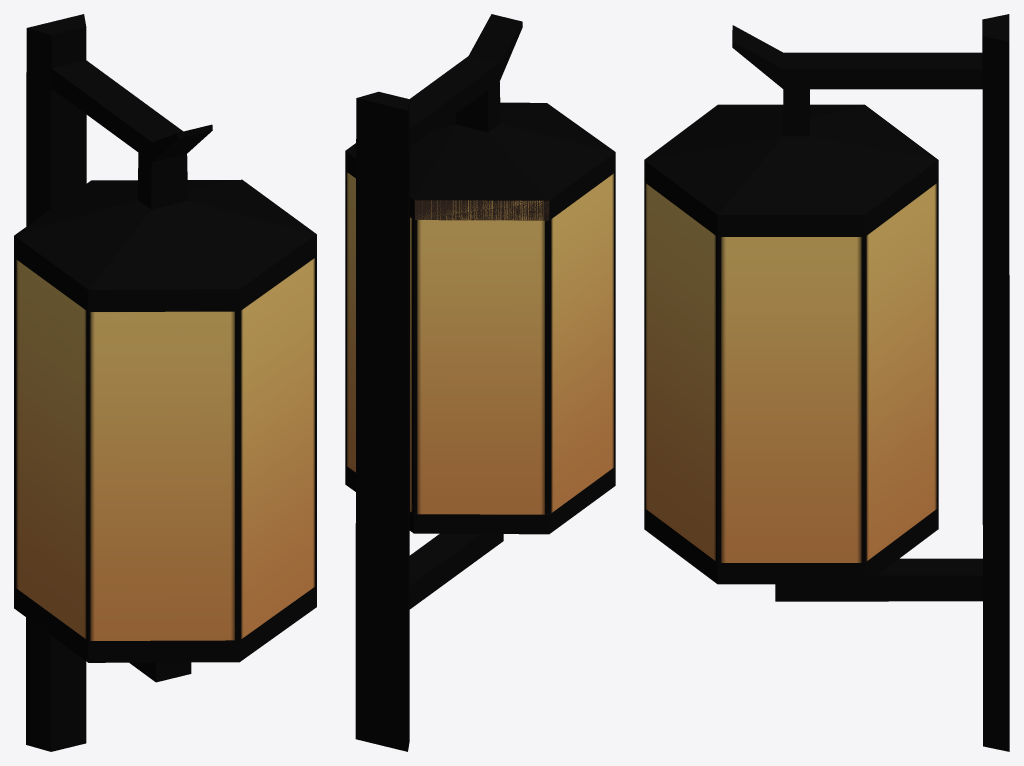
File: Lamp.fbx
The picture shows the model from 3 angles, left to right: view 1: azimuth 30°, elevation 25°; view 2: azimuth 150°, elevation 25°; view 3: azimuth 270°, elevation 25°; orthographic projection. The views are drawn at different scales.
Parts seen in each view (by area): view 1: Cylinder; view 2: Cylinder; view 3: Cylinder.
Part boxes in pixels (bbox=[...]): Cylinder: bbox=[14, 14, 316, 751]; Cylinder: bbox=[345, 14, 615, 751]; Cylinder: bbox=[644, 14, 1009, 751].
Size of the model in its own units: 1 by 3 by 1.4.
